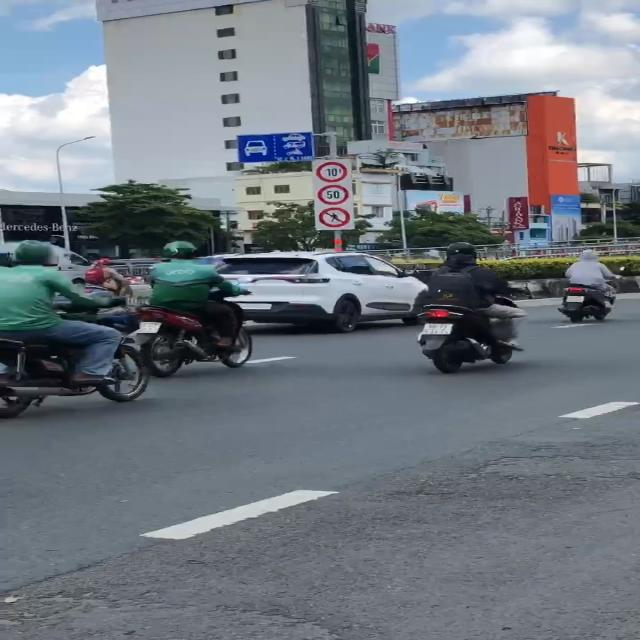Bien bao cam nguoi di bo: (315, 205, 355, 227)
Bien bao toc do toi da cho phep: (316, 183, 354, 207)
